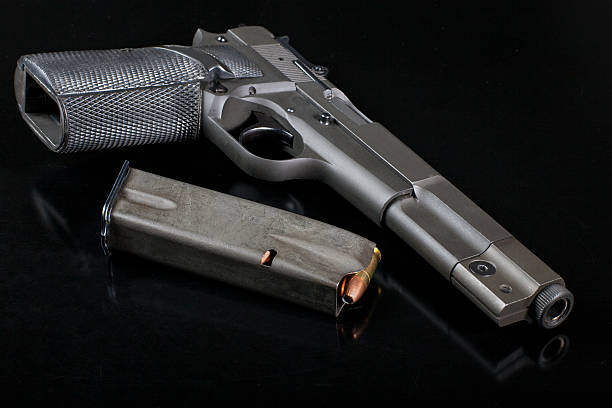pistol: (12, 22, 577, 354)
